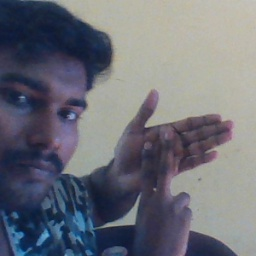N: (112, 86, 234, 228)
